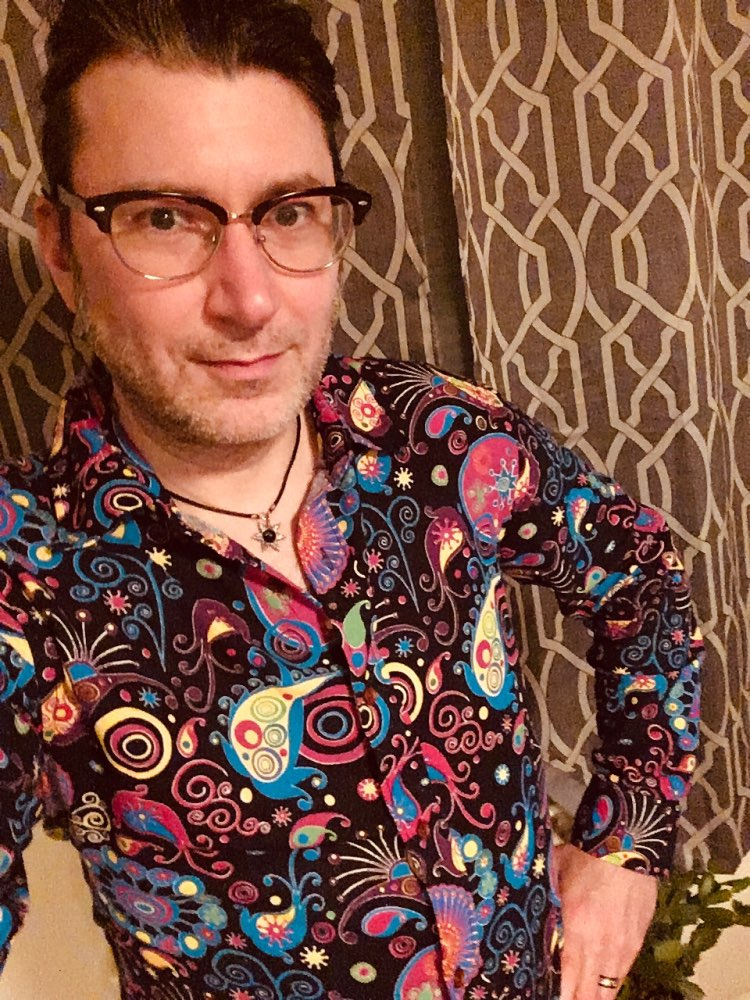shirts: (12, 366, 694, 1000)
